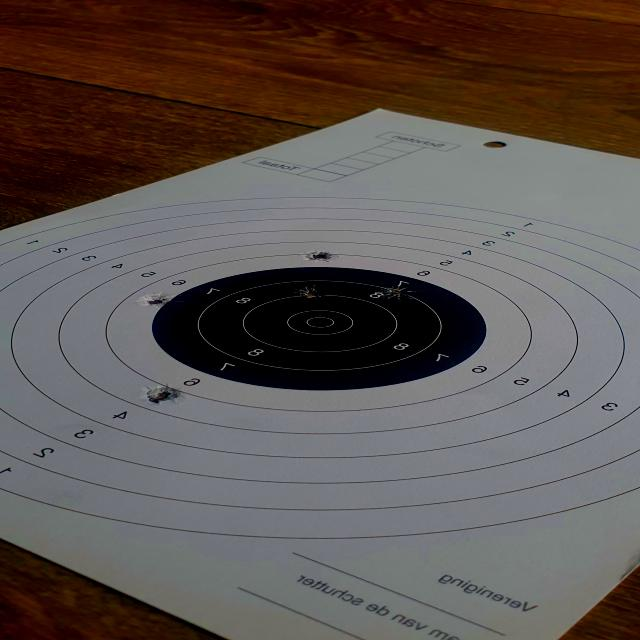6: (138, 384, 185, 404), (298, 250, 338, 263)
7: (133, 292, 184, 308)
8: (379, 286, 422, 301)
9: (290, 284, 334, 300)
Target: (0, 196, 640, 540)
black_contour: (150, 266, 488, 392)
